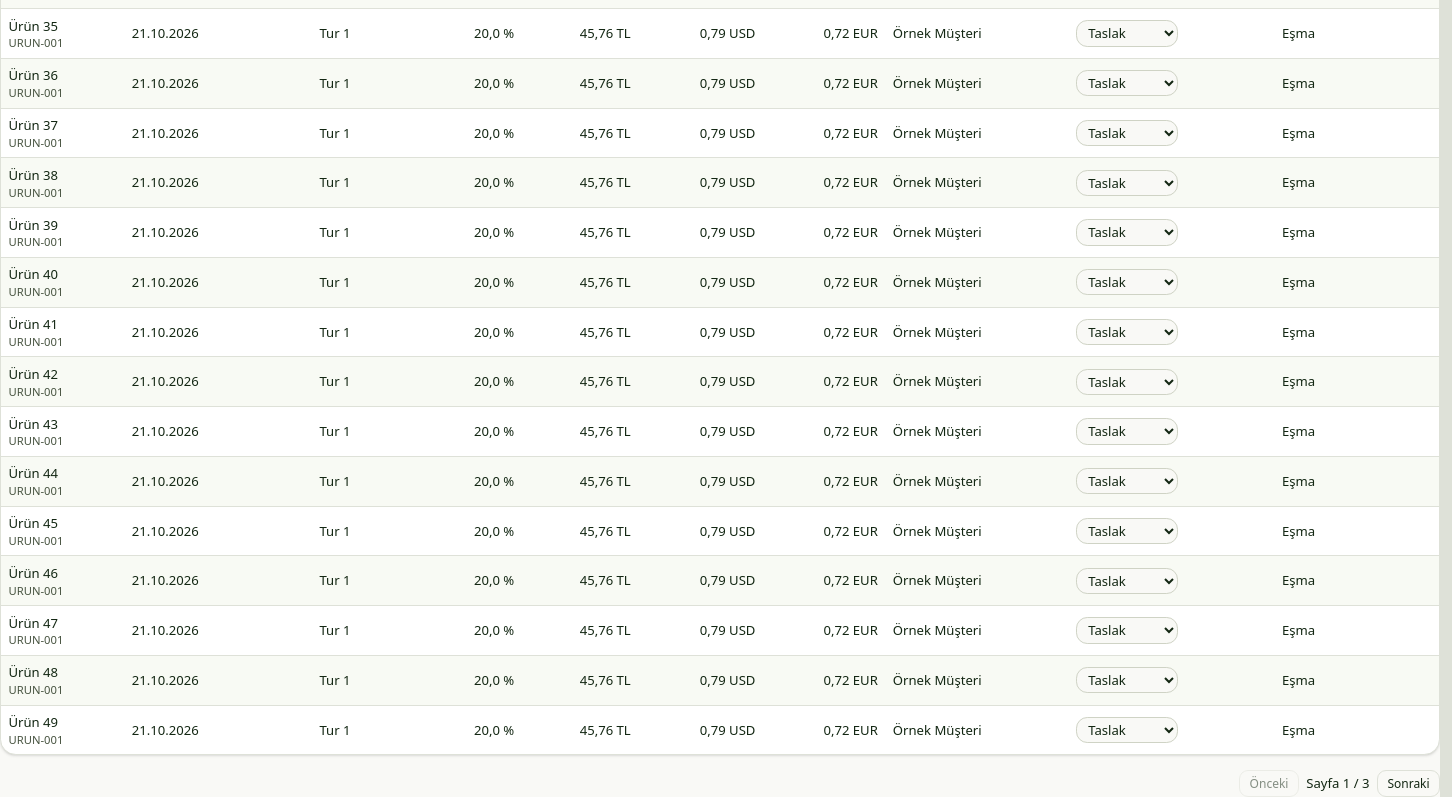
Test: Teklifler › sayfalama: boyut ve sayfa sunucuya gider
(page scrolled)
Expected: the text "Sayfa 1 / 3" is shown, [1306,774,1370,793]
Click the button "Sonraki" at (1408, 783), box [1377,770,1440,796]
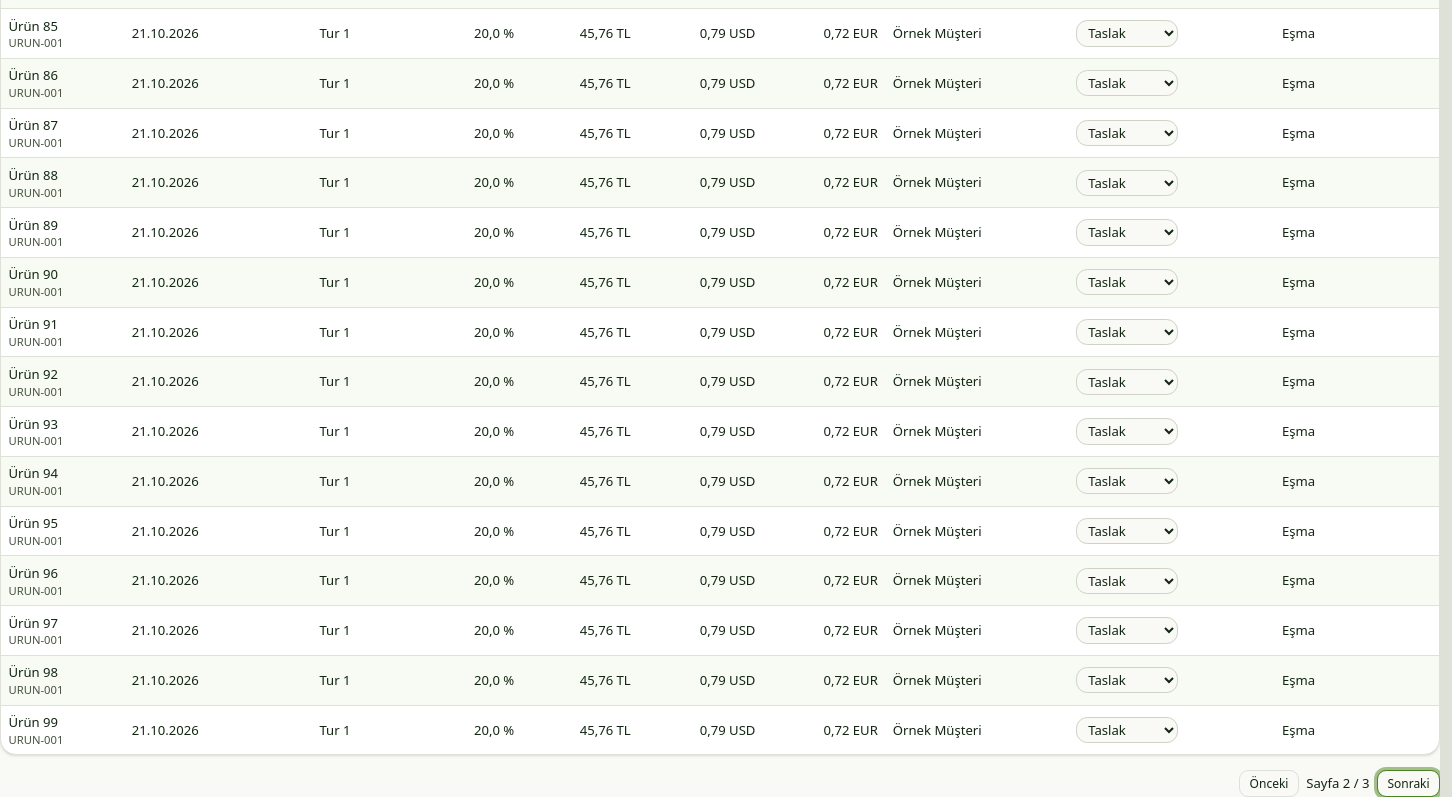
Now the text "Sayfa 2 / 3" is shown, box [1306,774,1370,793]
